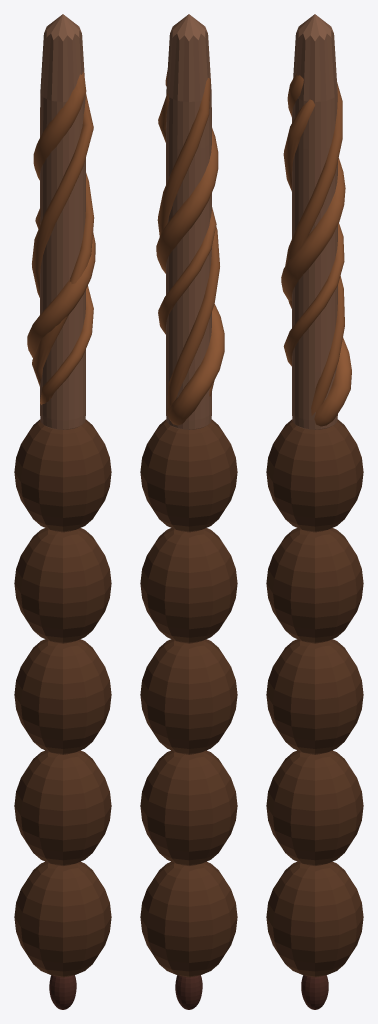
Rendered from Wand 276.glb.
The picture shows the model from 3 angles, left to right: view 1: azimuth 30°, elevation 25°; view 2: azimuth 210°, elevation 25°; view 3: azimuth 270°, elevation 25°; orthographic projection.
Visible parts, largest first — view 1: GeneratedWand; view 2: GeneratedWand; view 3: GeneratedWand.
Part boxes in pixels (x1=…): GeneratedWand: x1=14, y1=14, x2=111, y2=1009; GeneratedWand: x1=140, y1=14, x2=237, y2=1009; GeneratedWand: x1=266, y1=14, x2=363, y2=1009.
Size of the model in its own units: 0.0447 by 0.5074 by 0.0449.
